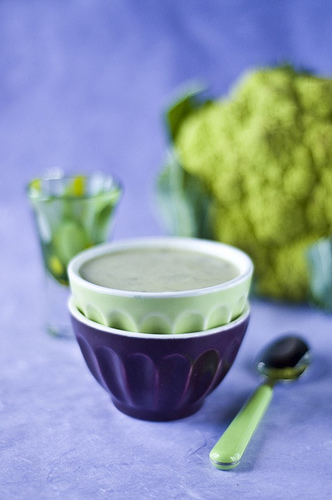cauliflower: (151, 61, 330, 317)
